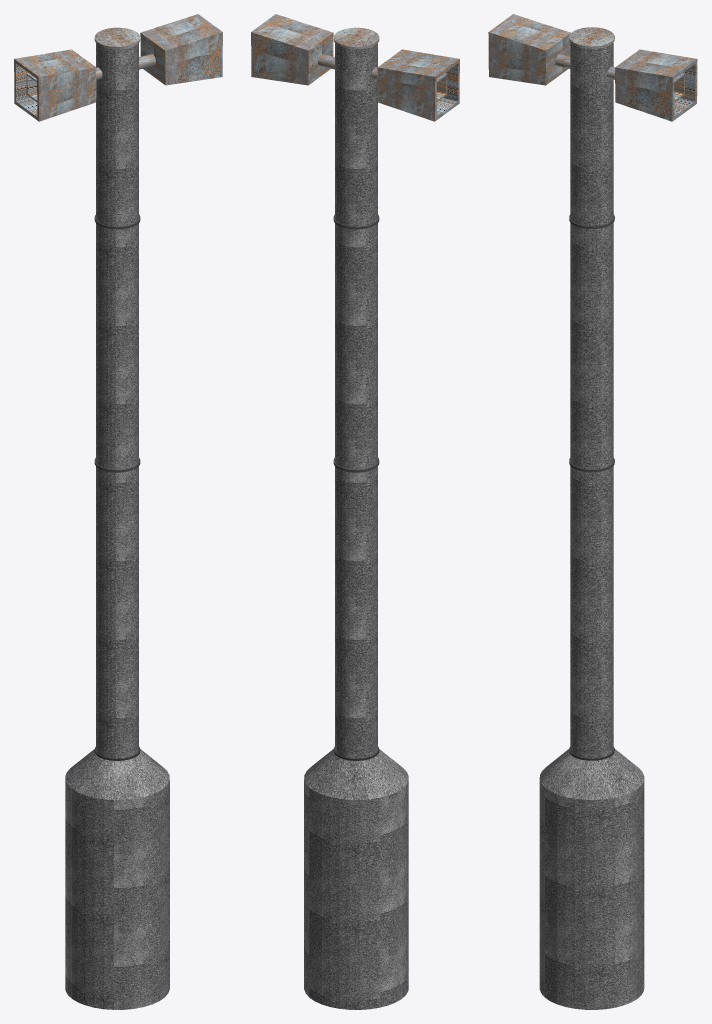
The model's file is psx_siren.glb.
3 views of the same model, side by side, from view 1: azimuth 30°, elevation 25°; view 2: azimuth 150°, elevation 25°; view 3: azimuth 330°, elevation 25° (orthographic).
Visible parts, largest first — view 1: Siren_0; view 2: Siren_0; view 3: Siren_0.
Part boxes in pixels (box(x1,y1,x2,y2)): Siren_0: box(14, 14, 222, 1009); Siren_0: box(251, 14, 459, 1009); Siren_0: box(488, 14, 697, 1009).
Bounding box in the file's own units: 0.9298 × 4.58 × 0.4584.
Materials: 9 (7 with a texture image).
